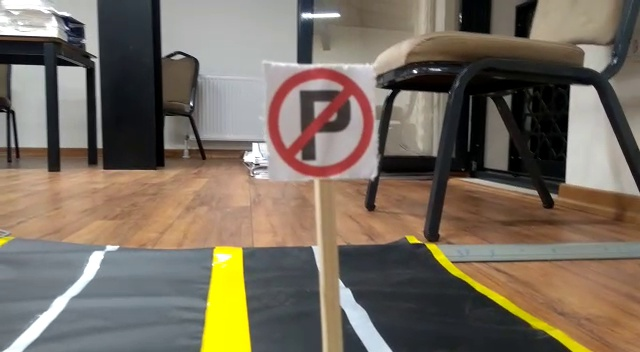park_yapilmaz: (265, 61, 375, 178)
